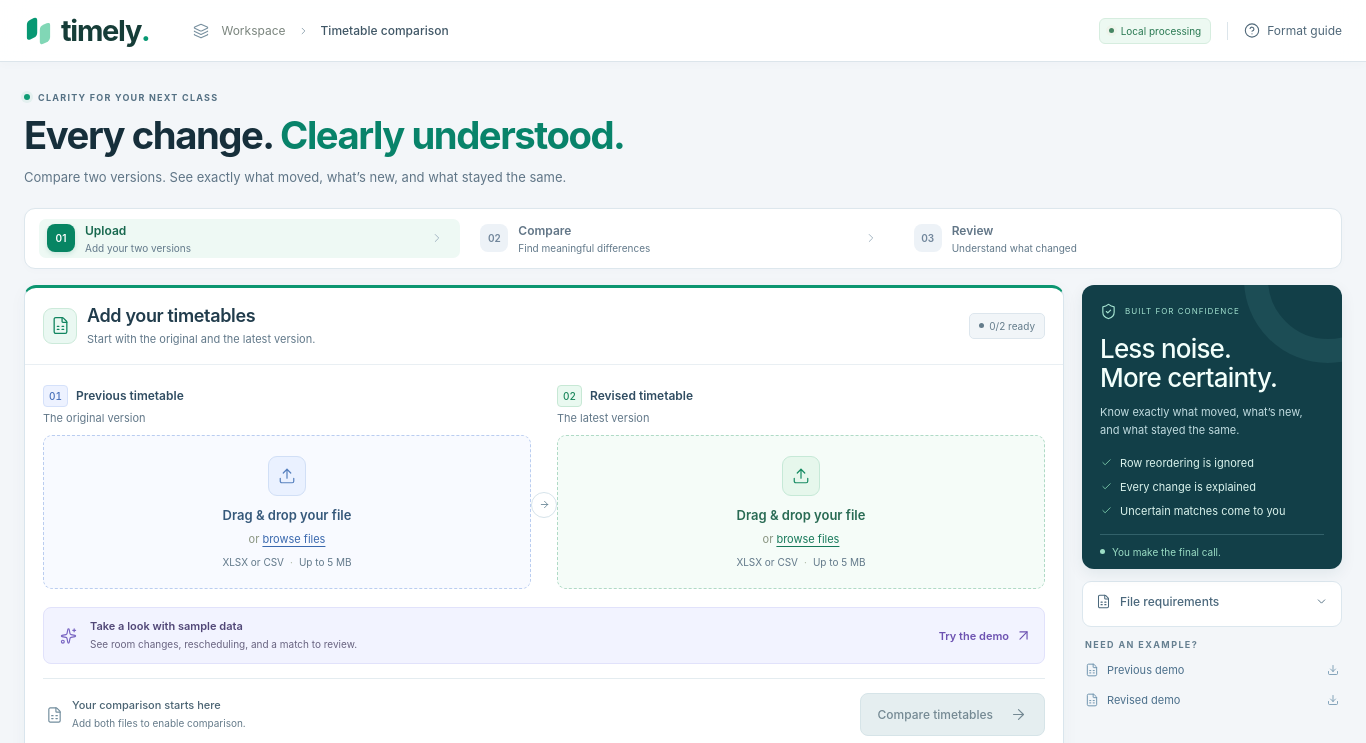
Scenario: Timely user flows › room-label confirmation preserves originals in the audit trail
This screenshot has width=1366, height=743.
Step 1. Click the button "Try the demo" → (985, 636), box [939,620,1032,652]
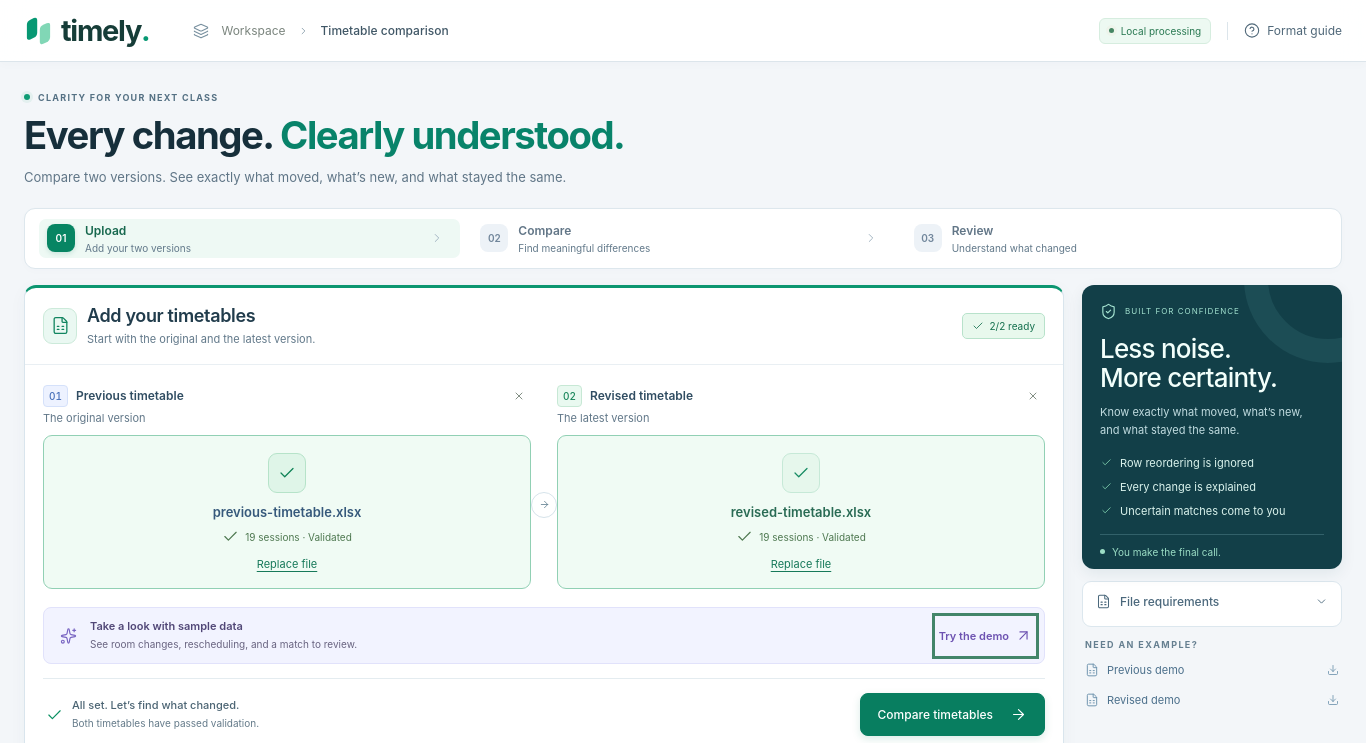
Step 2. Click the button "Compare timetables" → (952, 714), box [860,693,1045,736]
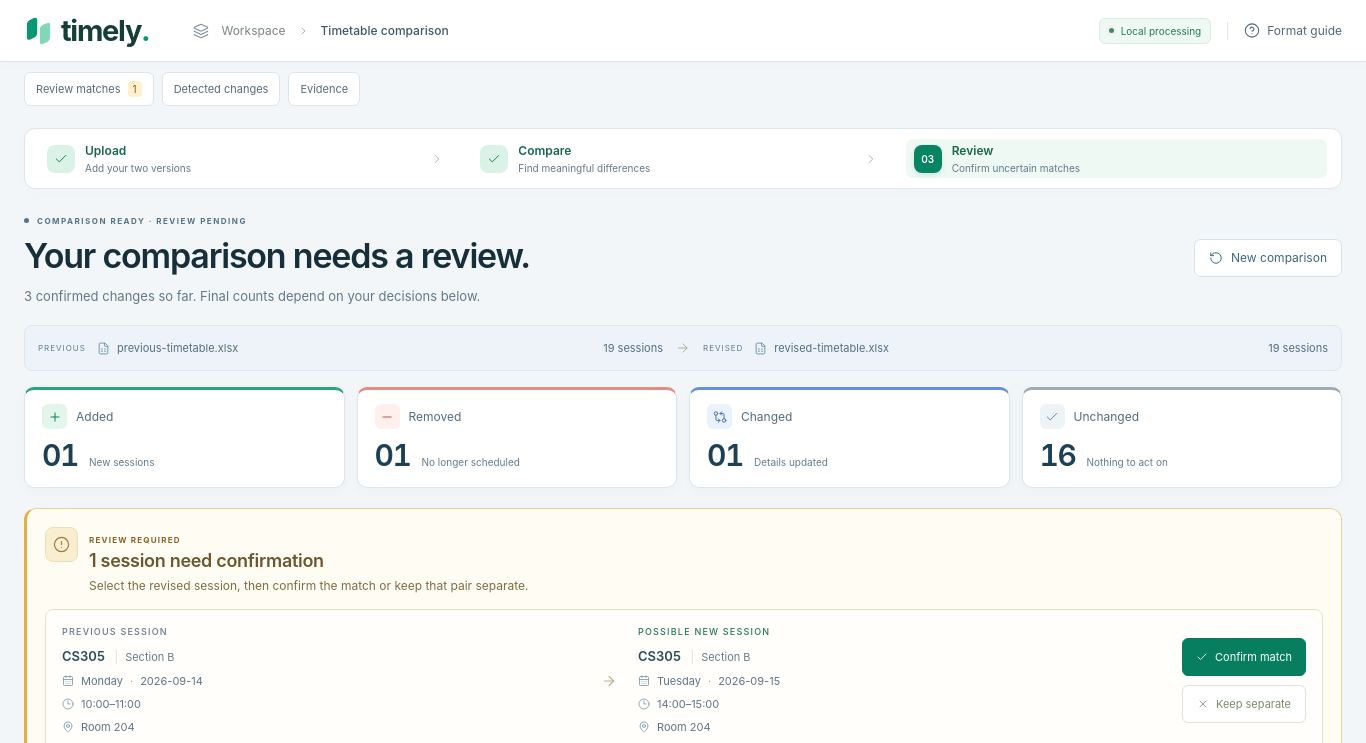
Result: the heading "Your comparison needs a review." is shown at [24,235,530,277]
Step 3. Click the button "Confirm match" → (1244, 657), box [1182,638,1306,676]
(page scrolled)
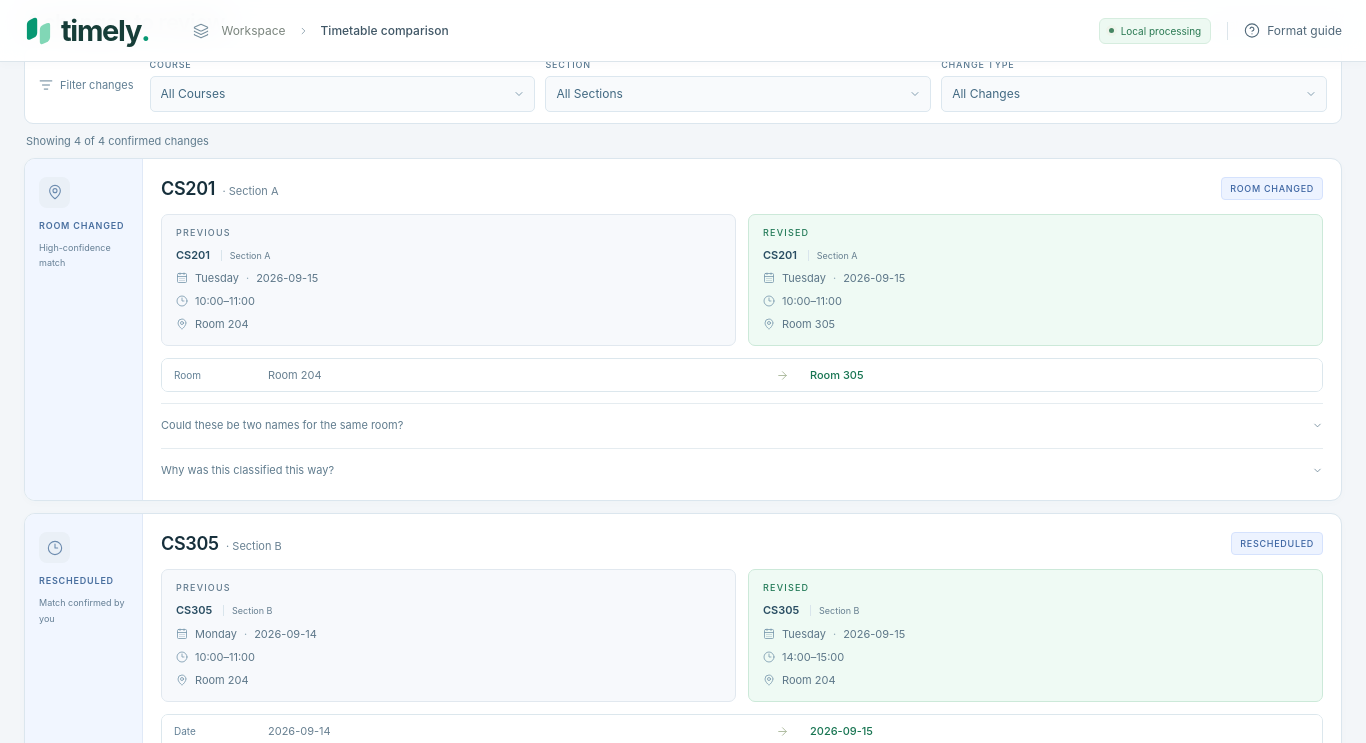
Step 4. Click the heading "Could these be two names for the same room?" → (282, 425), box [161,418,1323,432]
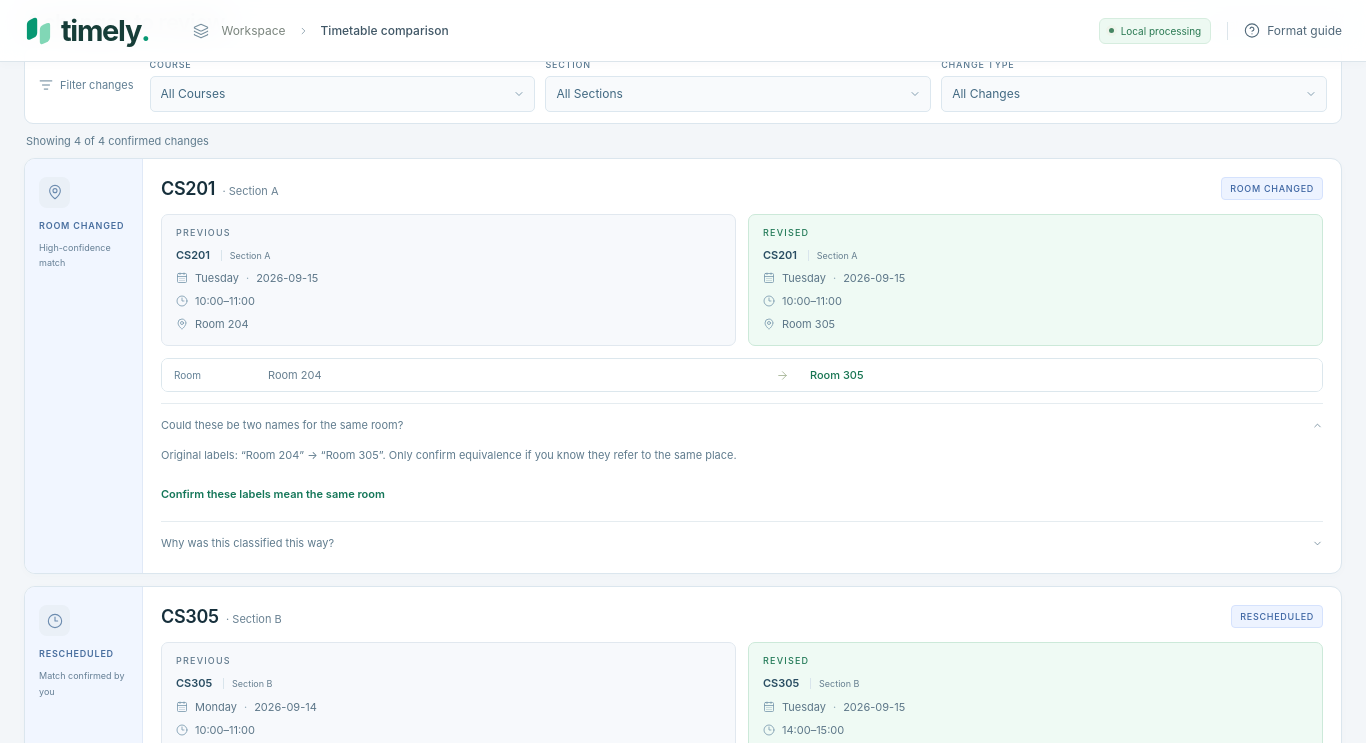
Step 5. Click the button "Confirm these labels mean the same room" → (273, 494), box [161,478,385,510]
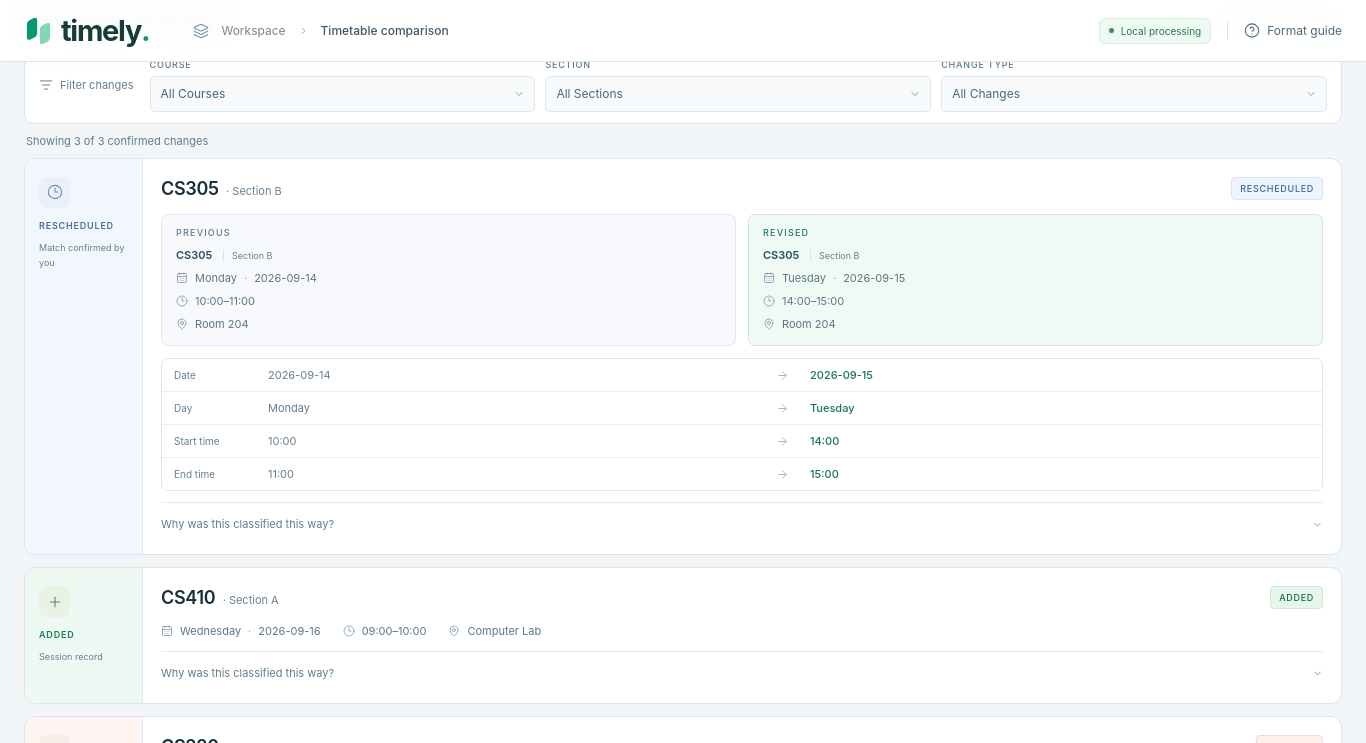
Result: the text "ROOM CHANGED" is gone
